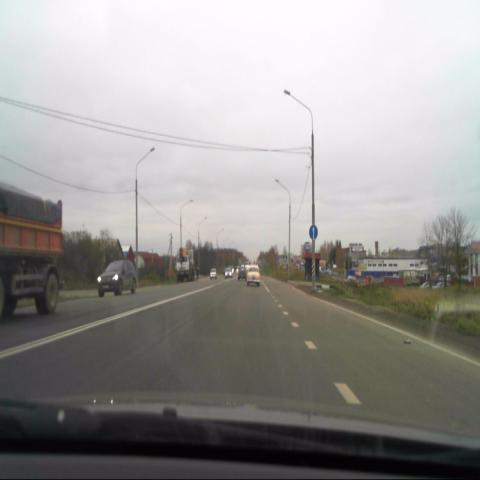4_1_1: (308, 224, 319, 244)
